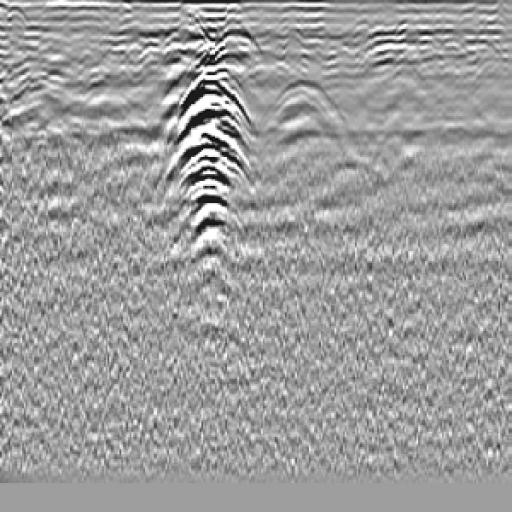metalic: (160, 24, 258, 323)
nonmetalic: (255, 75, 361, 187)
